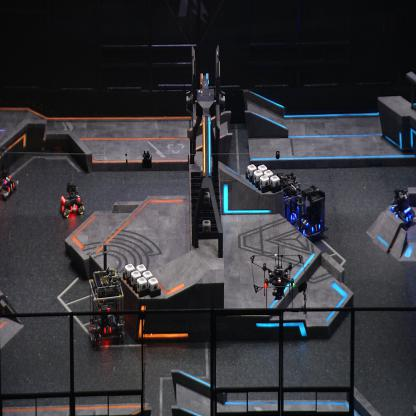car: (87, 267, 126, 344), (292, 184, 328, 239), (274, 173, 302, 227), (0, 142, 20, 201), (390, 186, 415, 226), (60, 180, 85, 219)
